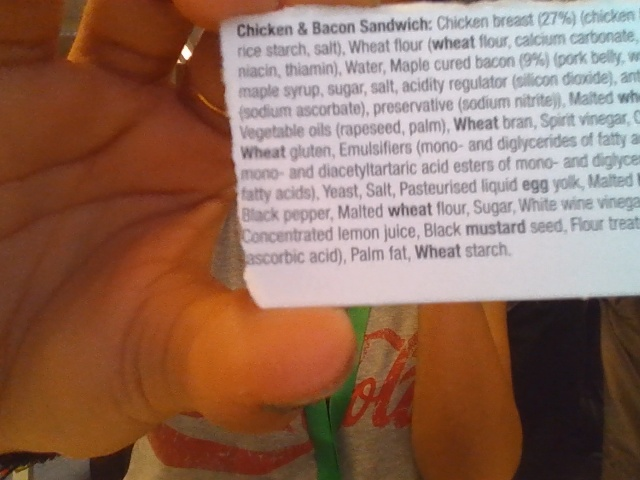chicken: (435, 12, 491, 31)
egg: (520, 177, 552, 195)
